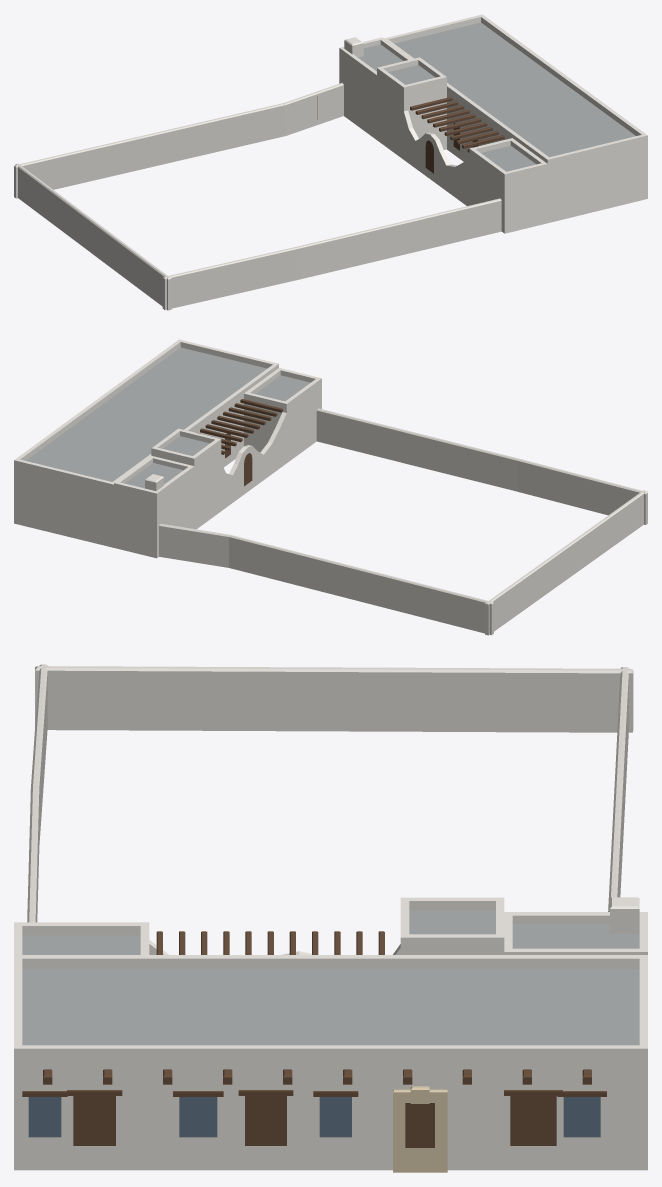
The model's file is sat-spanish-governors-palace.glb.
3 renders of one model, top to bottom at view 1: azimuth 30°, elevation 25°; view 2: azimuth 150°, elevation 25°; view 3: azimuth 270°, elevation 25°, orthographic. The views are drawn at different scales.
Visible parts, largest first — view 1: Spanish Governor's Palace; view 2: Spanish Governor's Palace; view 3: Spanish Governor's Palace.
Part boxes in pixels (box(x1,y1,x2,y2)): Spanish Governor's Palace: box(14, 14, 647, 310); Spanish Governor's Palace: box(14, 339, 647, 635); Spanish Governor's Palace: box(14, 664, 647, 1172).
Bounding box in the file's own units: 50.7 × 7.45 × 30.
